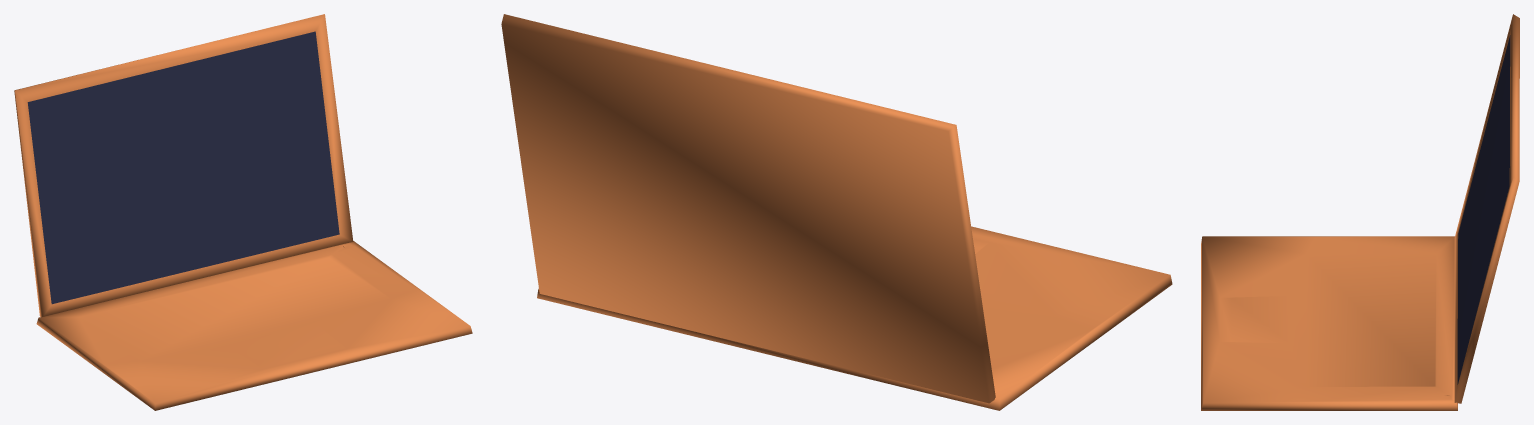
The model's file is Laptop1.fbx.
The picture shows the model from 3 angles, left to right: view 1: azimuth 30°, elevation 25°; view 2: azimuth 150°, elevation 25°; view 3: azimuth 270°, elevation 25°; orthographic projection. The views are drawn at different scales.
Parts seen in each view (by area): view 1: Plane.001, Plane.000; view 2: Plane.001, Plane.000; view 3: Plane.000, Plane.001.
Boxes of the visible parts, <box> form: Plane.001: <box>14,14,353,316</box>; Plane.000: <box>36,241,472,410</box>; Plane.001: <box>501,14,995,403</box>; Plane.000: <box>537,226,1172,410</box>; Plane.000: <box>1201,236,1457,410</box>; Plane.001: <box>1454,14,1519,403</box>.
Size of the model in its own units: 348 by 229 by 280.
